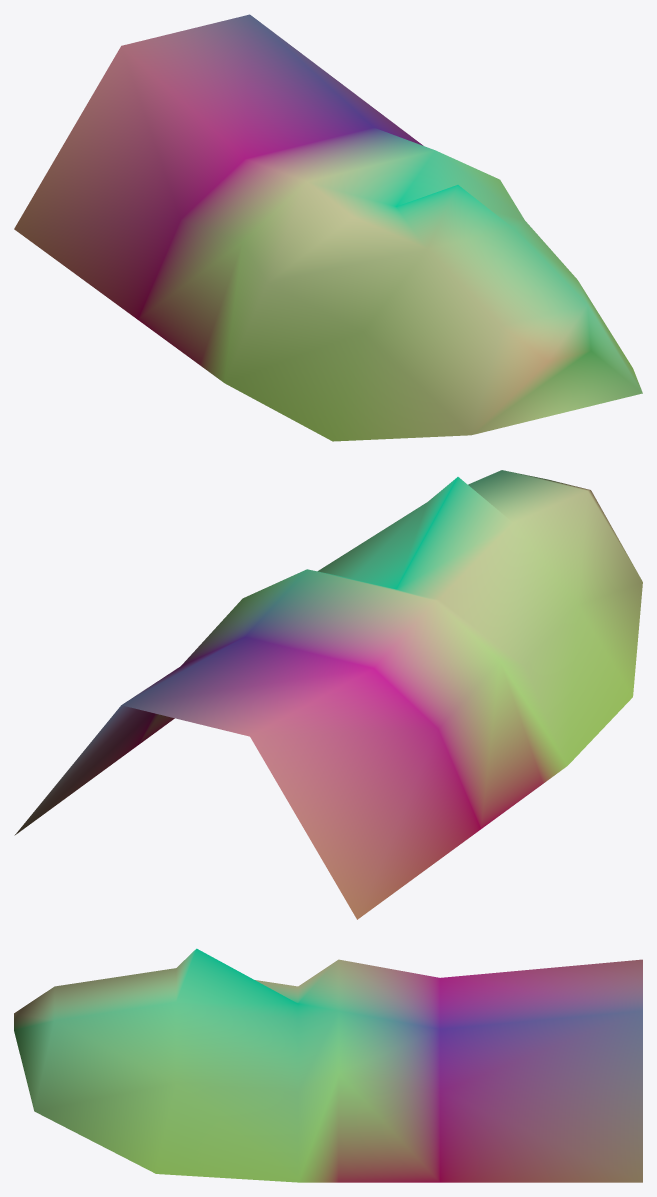
3 renders of one model, top to bottom at view 1: azimuth 30°, elevation 25°; view 2: azimuth 150°, elevation 25°; view 3: azimuth 270°, elevation 25°, orthographic. The views are drawn at different scales.
Visible parts, largest first — view 1: part; view 2: part; view 3: part.
Part boxes in pixels (x1,y1,x2,y2): part: [14, 14, 642, 441]; part: [14, 470, 642, 919]; part: [14, 948, 642, 1182].
Bounding box in the file's own units: 16 × 9 × 31.
